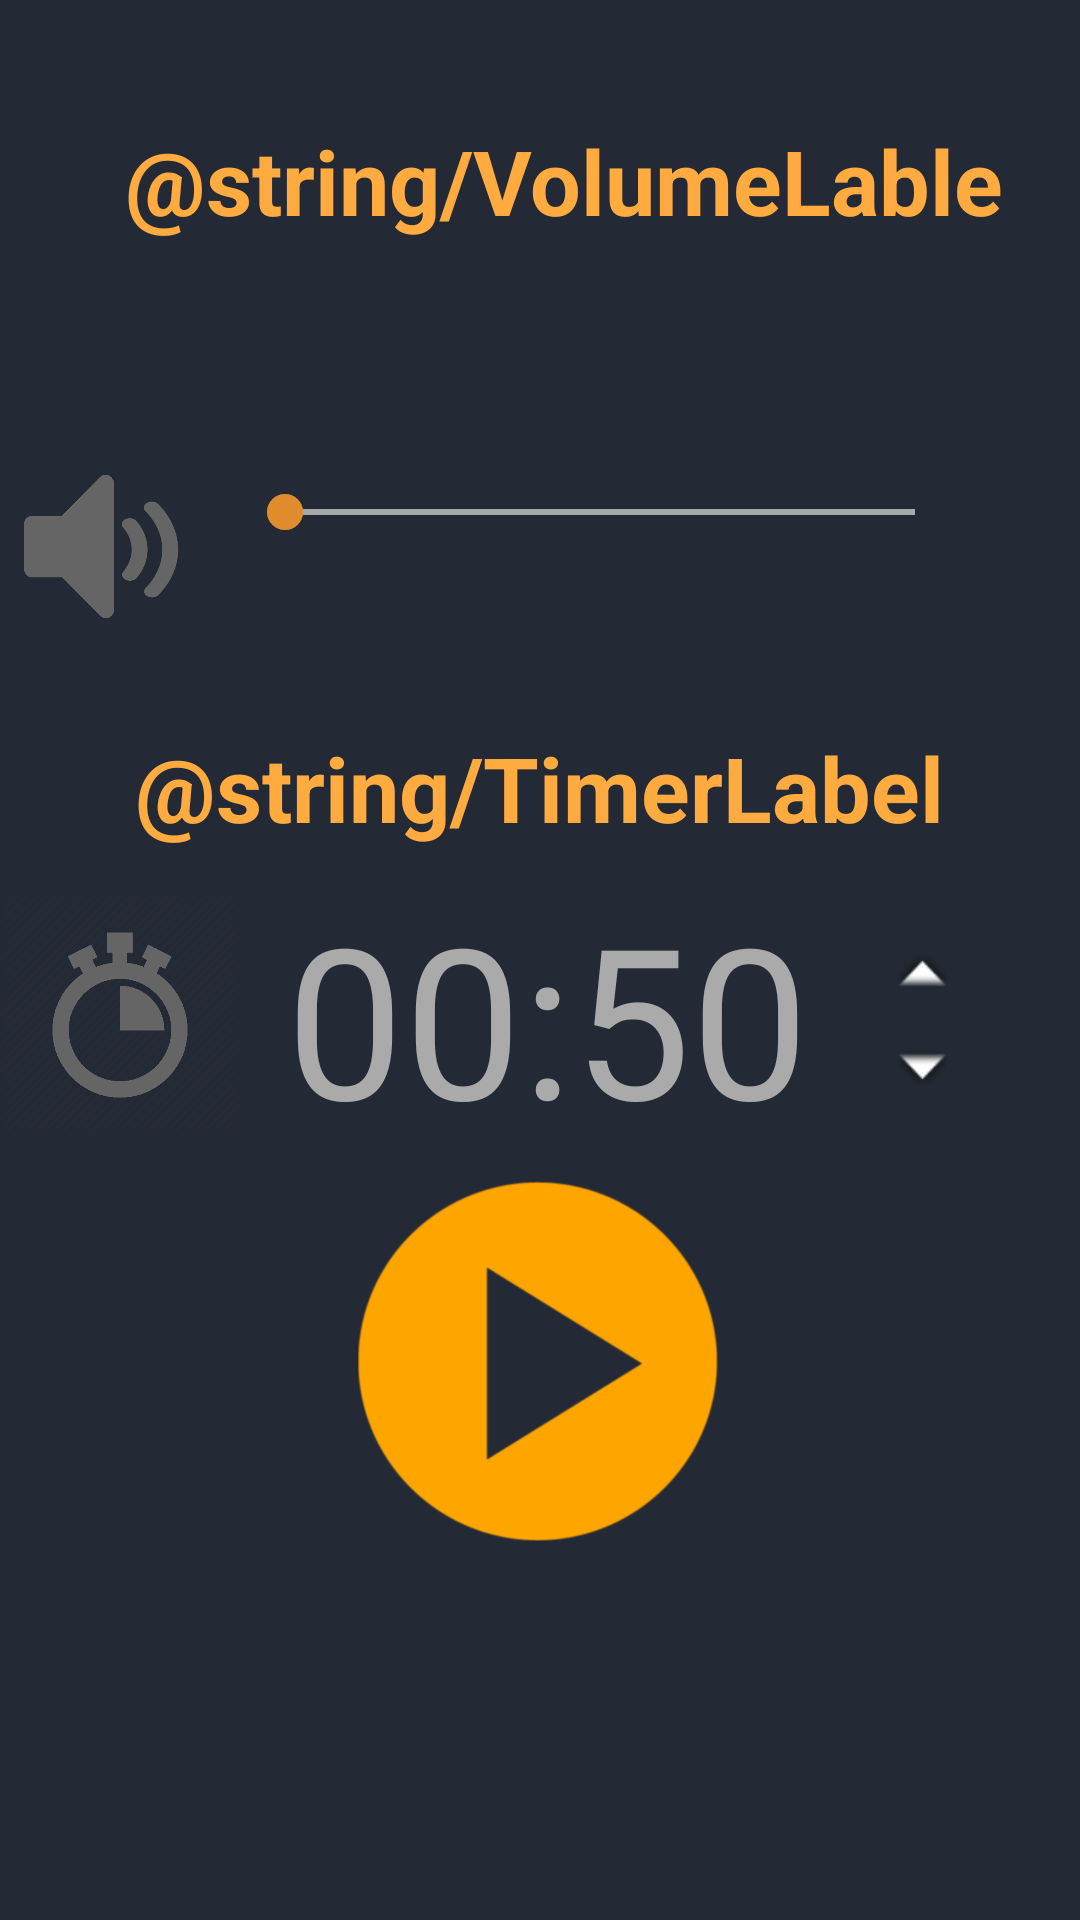

Icon click points for this 1080 x 1920 phone screenshot, format [x,y]:
Decrease Minutes: [922,1066]
Increase Minutes: [922,973]
Start/Stop Timer: [538,1361]
Volume: [101,546]
